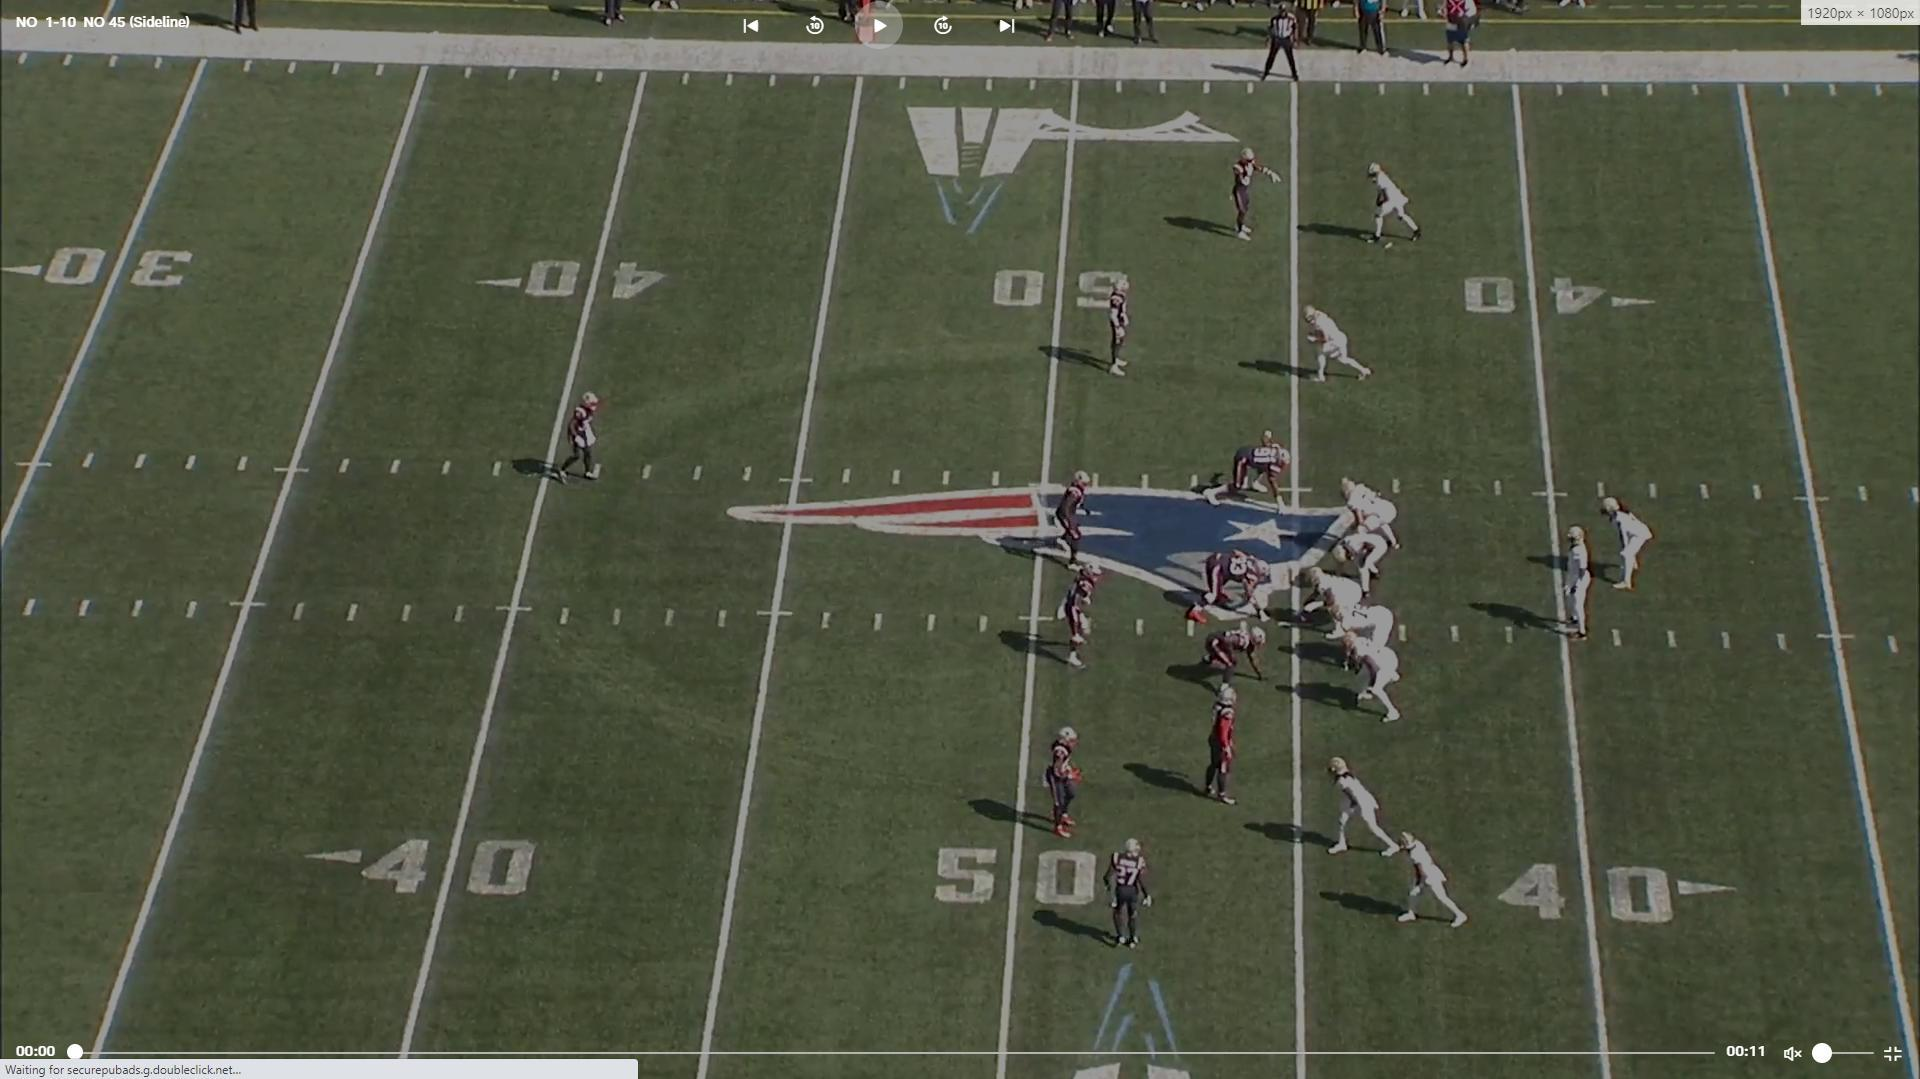defense: (1199, 431, 1298, 514), (1178, 624, 1267, 690), (1058, 559, 1109, 673), (1108, 836, 1154, 960), (1195, 687, 1241, 810), (1042, 722, 1087, 842), (1183, 551, 1253, 628), (1050, 471, 1100, 572), (1229, 145, 1279, 243), (558, 386, 605, 487), (1098, 276, 1137, 384)
oline: (1345, 631, 1410, 728), (1333, 475, 1396, 557), (1332, 599, 1400, 671), (1311, 567, 1377, 634), (1329, 530, 1390, 600)
qb: (1545, 521, 1593, 642)
ref: (1261, 4, 1307, 87)
skill: (1324, 755, 1406, 861), (1395, 834, 1476, 935), (1302, 303, 1379, 389), (1361, 161, 1429, 253), (1596, 491, 1654, 598)
